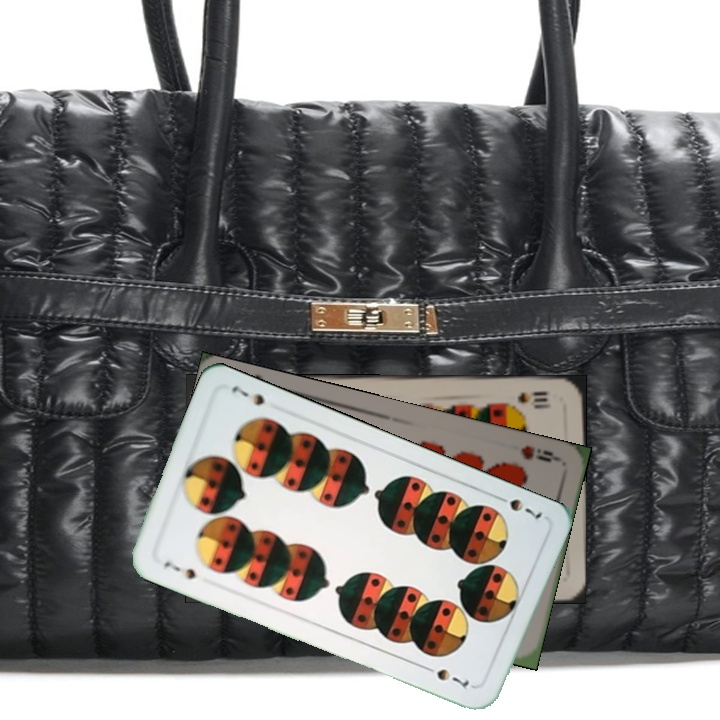H9: (517, 441, 561, 465)
S10: (514, 387, 554, 409)
S7: (491, 491, 545, 522), (159, 557, 199, 582)
